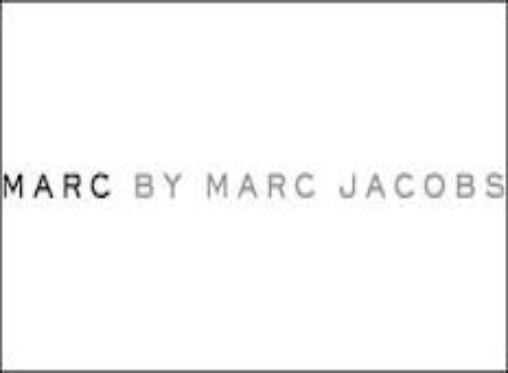MARC-JACOBS: (1, 153, 507, 243)
